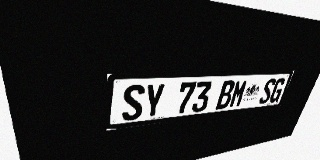3: (191, 81, 213, 113)
7: (175, 82, 197, 115)
B: (215, 80, 236, 110)
G: (268, 78, 287, 103)
M: (228, 80, 249, 108)
S: (122, 84, 145, 121), (258, 78, 277, 104)
Y: (143, 83, 166, 119)
